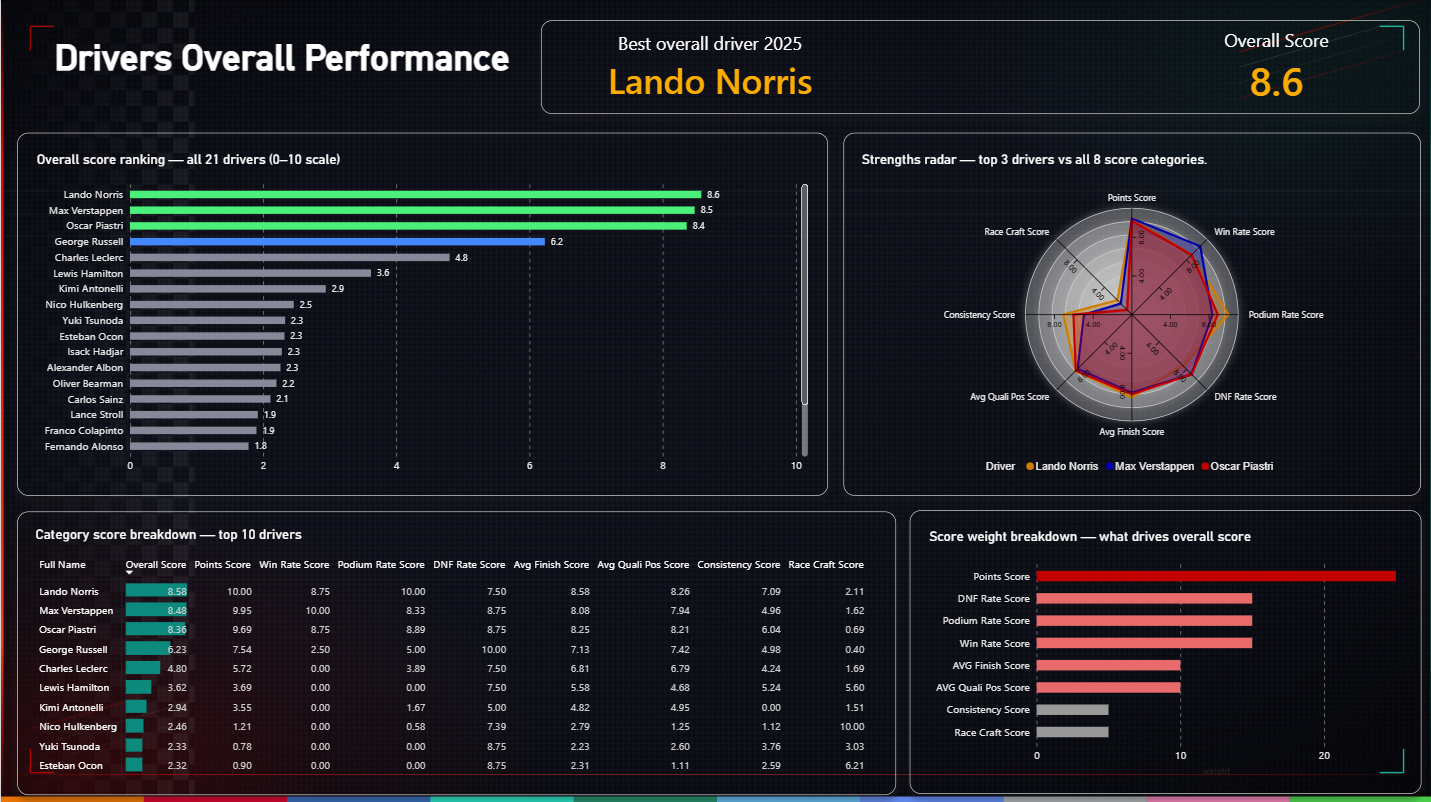

This screenshot's page, from the dashboard's own definition file:
{"tool":"powerbi","page":{"name":"Overall Performance","canvas":[1920,1080],"ordinal":4},"visuals":[{"type":"shape","box":[1128.3,180,773.3,486.7],"z":0},{"type":"shape","box":[21.7,180,1086.7,486.7],"z":1000},{"type":"shape","box":[21.1,685.9,1177.5,380.3],"z":2000},{"type":"shape","box":[1217.3,685.5,685.5,380],"z":3000},{"type":"shape","box":[723.2,27.7,1177.6,125.9],"z":4000},{"type":"cardVisual","title":"Best overall driver 2025","fields":{"Data":["Min(2025_master_summary.Full Name)"]},"box":[733.3,36.7,433.3,110],"z":5000},{"type":"cardVisual","fields":{"Data":["Max(2025_master_summary.Overall Score)"]},"box":[1516.7,36.7,383.3,110],"z":6000},{"type":"barChart","title":"Overall score ranking — all 21 drivers (0–10 scale)","fields":{"Category":["2025_master_summary.Full Name"],"Y":["Sum(2025_master_summary.Overall Score)"]},"box":[31.2,190,1065.3,466.5],"z":7000},{"type":"radarChart5F59D098BB90499F8C33EBEBCEE4FEBF","title":"Strengths radar — top 3 drivers vs all 8 score categories.","fields":{"category":["2025_master_summary.Full Name"],"measure":["Sum(2025_master_summary.Points Score)","Sum(2025_master_summary.Score Win Rate)","Sum(2025_master_summary.Podium Rate Score)","Sum(2025_master_summary.DNF Rate Score)","Sum(2025_master_summary.Avg Finish Score)","Sum(2025_master_summary.Avg Quali Pos Score)","Sum(2025_master_summary.Consistency Score)","Sum(2025_master_summary.Race Craft Score)"]},"box":[1138,190,756,466.7],"z":8000},{"type":"pivotTable","title":"Category score breakdown — top 10 drivers","fields":{"Rows":["2025_master_summary.Full Name"],"Values":["Sum(2025_master_summary.Overall Score)","Sum(2025_master_summary.Score Points)","Avg(2025_master_summary.Score Win Rate)","Sum(2025_master_summary.Score Podium Rate)","Sum(2025_master_summary.Score Dnf Rate)","Sum(2025_master_summary.Score Races Avg Finish)","Sum(2025_master_summary.Score Avg Quali Position)","Sum(2025_master_summary.Score Races Finish Std)","Sum(2025_master_summary.Score Avg Quali Race Gap)"]},"box":[30.9,691.8,1159.1,364.5],"z":9000},{"type":"barChart","title":"Score weight breakdown — what drives overall score","fields":{"Category":["2025_score_weights.category"],"Y":["Sum(2025_score_weights.weight)"]},"box":[1228.2,695.5,665.5,360.9],"z":10000},{"type":"textbox","box":[52,50,650,83],"z":10001}]}

Visuals, with their boxes in screenshot pixels (x1, y1, x2, y2), scaled from the page's 1920x1080 canvas onto the 1431x802 screenshot:
shape: Rect(841, 134, 1417, 495)
shape: Rect(16, 134, 826, 495)
shape: Rect(16, 509, 893, 792)
shape: Rect(907, 509, 1418, 791)
shape: Rect(539, 21, 1417, 114)
"Best overall driver 2025" cardVisual: Rect(547, 27, 869, 109)
cardVisual - Max(2025_master_summary.Overall Score): Rect(1130, 27, 1416, 109)
"Overall score ranking — all 21 drivers (0–10 scale)" barChart: Rect(23, 141, 817, 488)
"Strengths radar — top 3 drivers vs all 8 score categories." radarChart5F59D098BB90499F8C33EBEBCEE4FEBF: Rect(848, 141, 1412, 488)
"Category score breakdown — top 10 drivers" pivotTable: Rect(23, 514, 887, 784)
"Score weight breakdown — what drives overall score" barChart: Rect(915, 516, 1411, 784)
textbox: Rect(39, 37, 523, 99)
